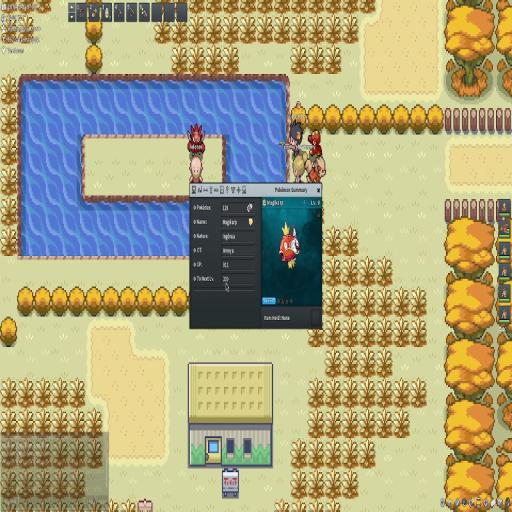SKIPANOUCE: (190, 183, 320, 329)
